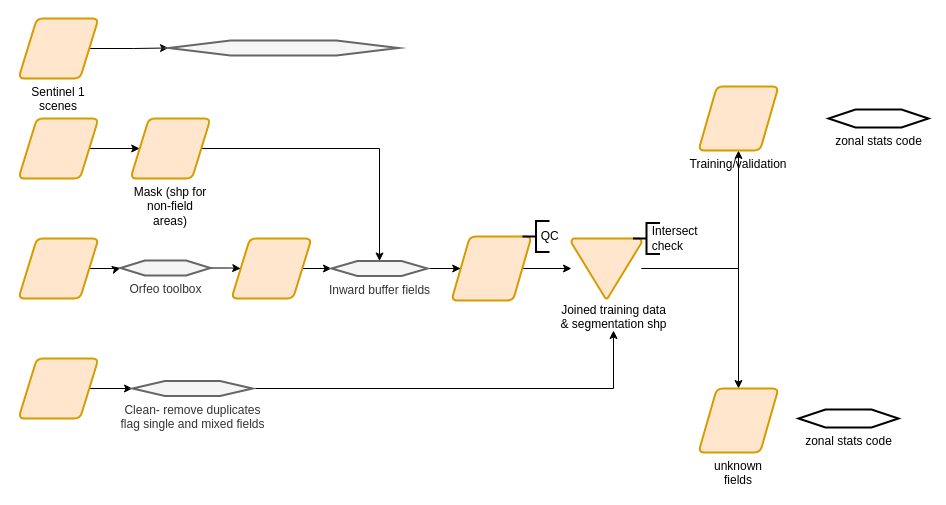
The diagram is 946 pixels wide and 505 high, and some of its shapes have lost their labels. Each missing label, with the centre of its shape:
"Cloud free composite" goes at (x=58, y=268).
"Remove artefacts" goes at (x=283, y=47).
"Segmented field boundaries" goes at (x=271, y=268).
"Segmented fields excluding mask and buffered" goes at (x=491, y=268).
"Spatial data shape files e.g forests" goes at (x=58, y=148).
"Training data (ground truth)" goes at (x=58, y=388).
